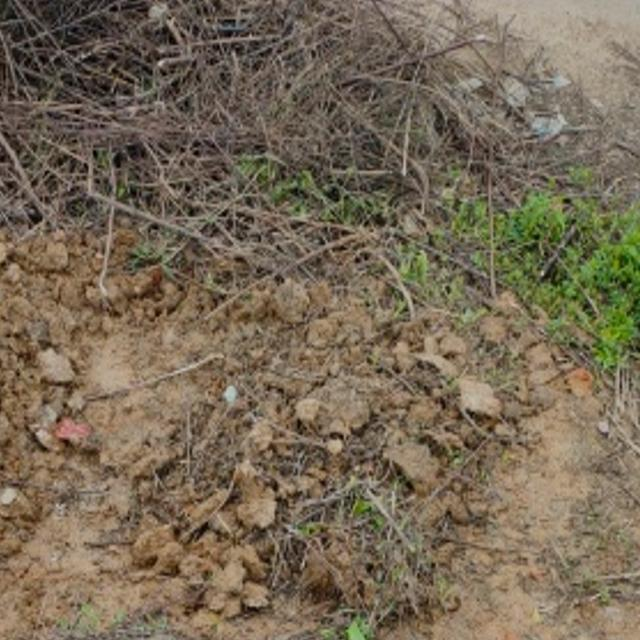lose: (0, 627, 521, 640)
